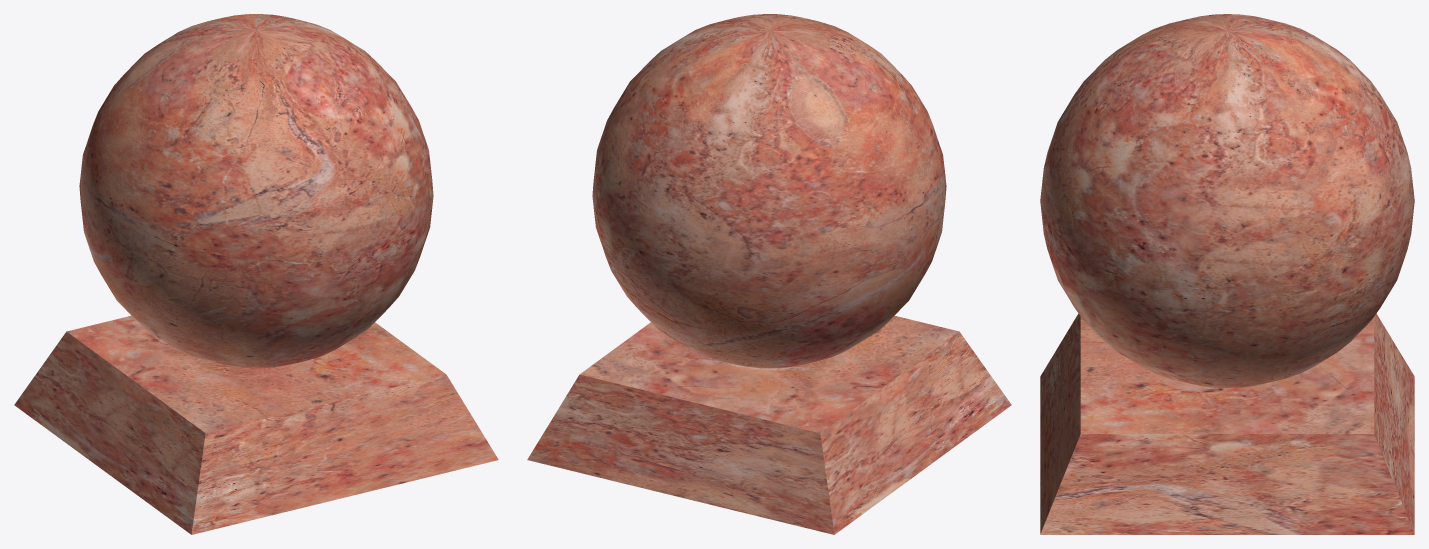
File: marble.glb
3 views of the same model, side by side, from view 1: azimuth 30°, elevation 25°; view 2: azimuth 150°, elevation 25°; view 3: azimuth 270°, elevation 25° (orthographic). The views are drawn at different scales.
Parts seen in each view (by area): view 1: Cube; view 2: Cube; view 3: Cube.
Part boxes in pixels (left/top/right/bottom): Cube: left=14, top=14, right=498, bottom=534; Cube: left=527, top=14, right=1011, bottom=534; Cube: left=1040, top=14, right=1414, bottom=534.
Bounding box in the file's own units: 2 × 2.5 × 2.
1 material, 1 textured.
